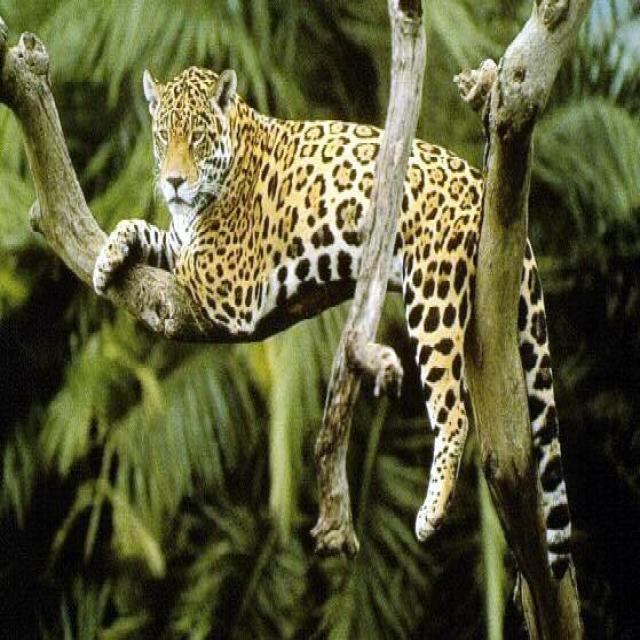Leopard: (92, 63, 574, 579)
